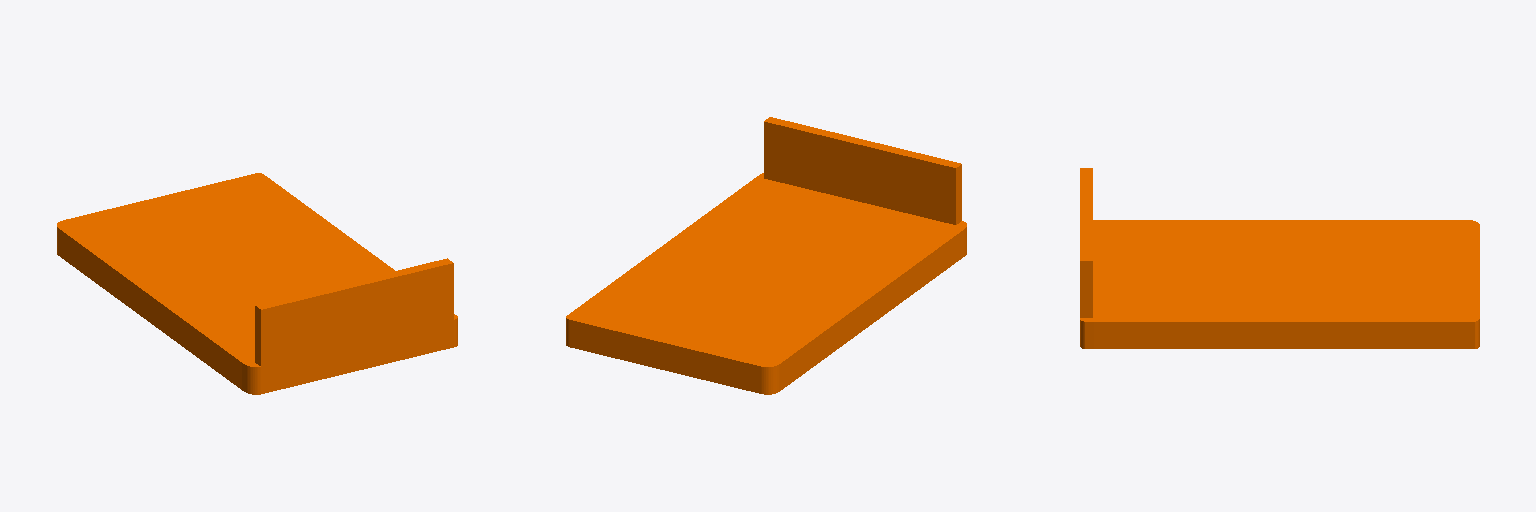
File: carro_janela.obj
3 renders of one model, left to right at view 1: azimuth 30°, elevation 25°; view 2: azimuth 150°, elevation 25°; view 3: azimuth 270°, elevation 25°, orthographic.
Visible parts, largest first — view 1: janela_Mesh32_Group32_Model; view 2: janela_Mesh32_Group32_Model; view 3: janela_Mesh32_Group32_Model.
Part boxes in pixels (left/top/right/bottom): janela_Mesh32_Group32_Model: left=57, top=173, right=457, bottom=394; janela_Mesh32_Group32_Model: left=566, top=117, right=966, bottom=394; janela_Mesh32_Group32_Model: left=1080, top=168, right=1479, bottom=348.
Bounding box in the file's own units: 38.44 × 14.83 × 63.52.